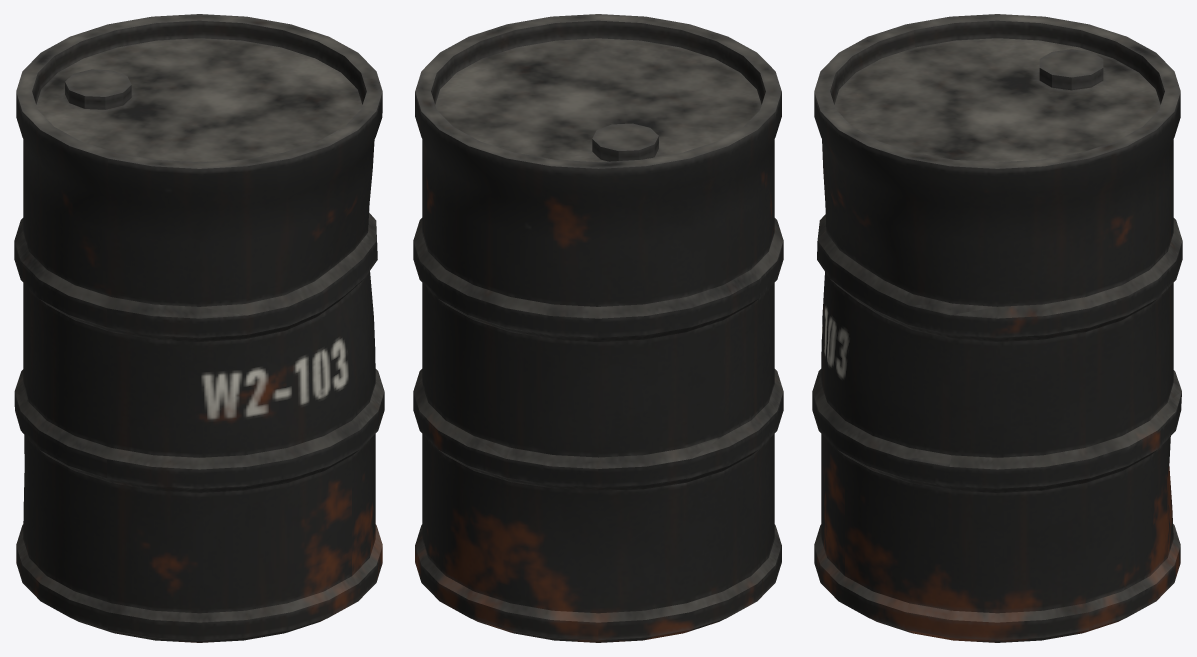
File: W2_OilDrum_Black.fbx
The picture shows the model from 3 angles, left to right: view 1: azimuth 30°, elevation 25°; view 2: azimuth 150°, elevation 25°; view 3: azimuth 270°, elevation 25°; orthographic projection.
Parts seen in each view (by area): view 1: W2_OilDrum_Black; view 2: W2_OilDrum_Black; view 3: W2_OilDrum_Black.
Boxes of the visible parts, x1,y1,x2,y2 form: W2_OilDrum_Black: (14, 14, 384, 642); W2_OilDrum_Black: (413, 14, 783, 642); W2_OilDrum_Black: (812, 14, 1182, 642).
Size of the model in its own units: 210 by 300 by 210.
Materials: 1 (1 with a texture image).
